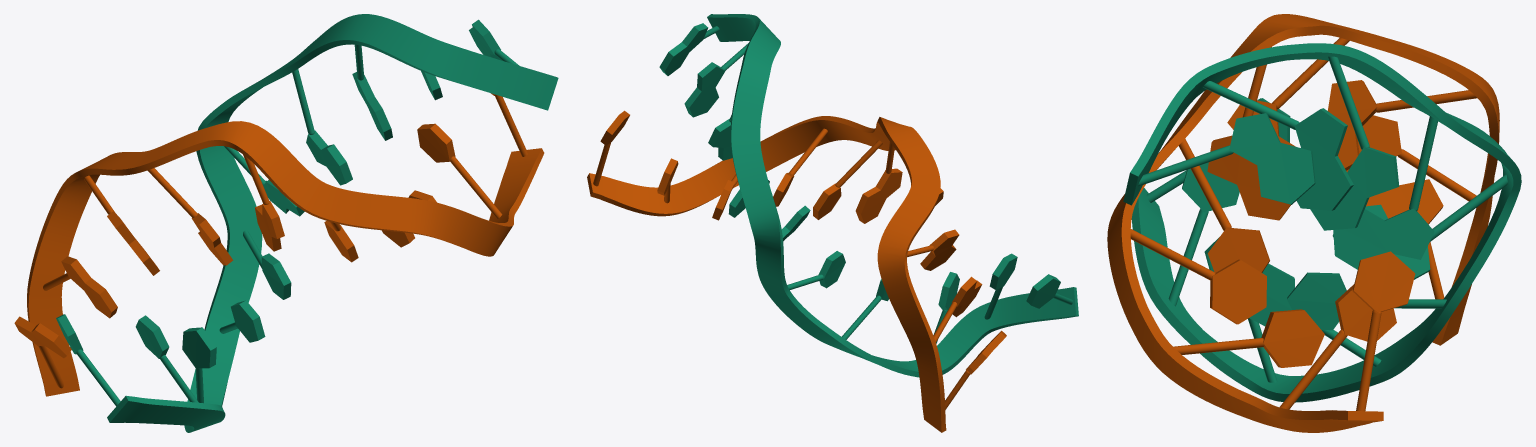
File: B-DNA.glb
3 views of the same model, side by side, from view 1: azimuth 30°, elevation 25°; view 2: azimuth 150°, elevation 25°; view 3: azimuth 270°, elevation 25° (orthographic). The views are drawn at different scales.
Size of the model in its own units: 34.83 by 22.62 by 17.73.
